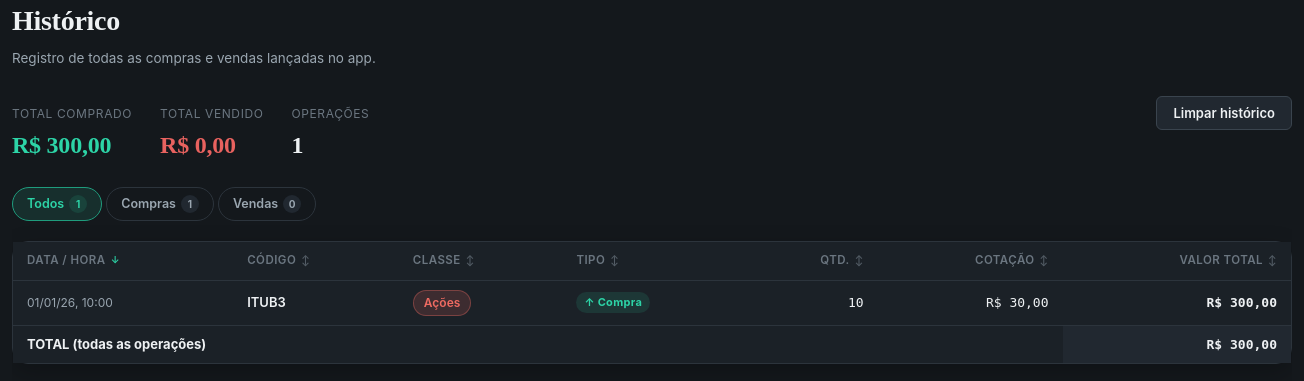
Historico — botão Limpar histórico (padrão de confirmação dupla) › primeiro clique só pede confirmação — não apaga o histórico
The image size is (1304, 381).
Click the button "Limpar histórico" at (1224,113), box x1=1156 y1=96 x2=1292 y2=130
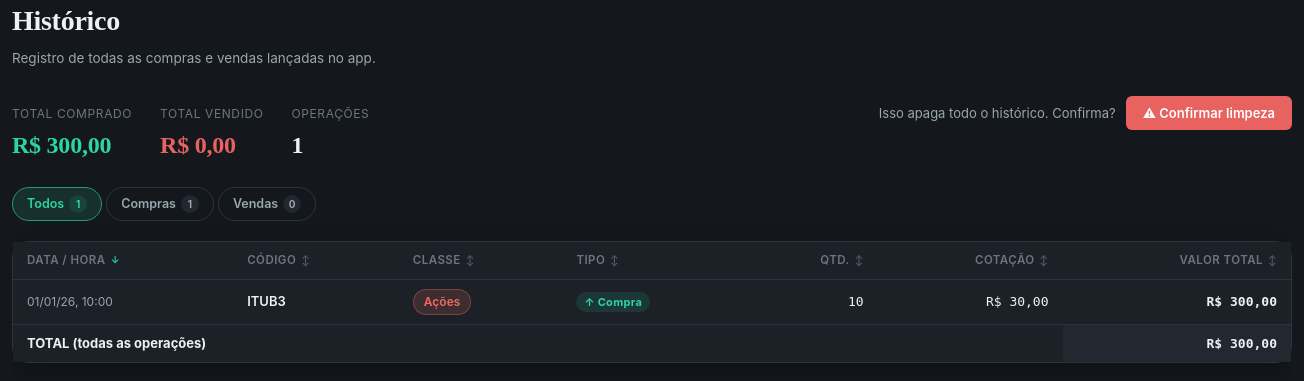
Check: the text "ITUB3" is shown, box x1=233 y1=279 x2=399 y2=324
Check: the text "Isso apaga todo o histórico. Confirma?" is shown, box x1=879 y1=104 x2=1116 y2=123
Check: the button "⚠ Confirmar limpeza" is shown, box x1=1126 y1=96 x2=1292 y2=130
